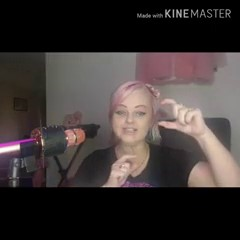C: (152, 94, 207, 137)
